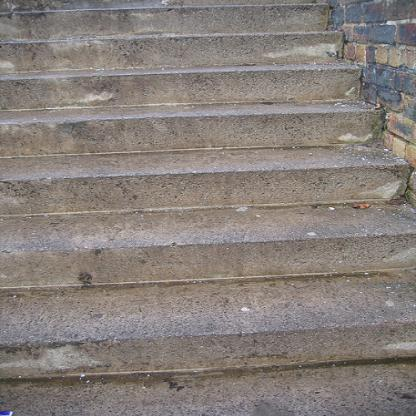stairs: (5, 15, 370, 410)
